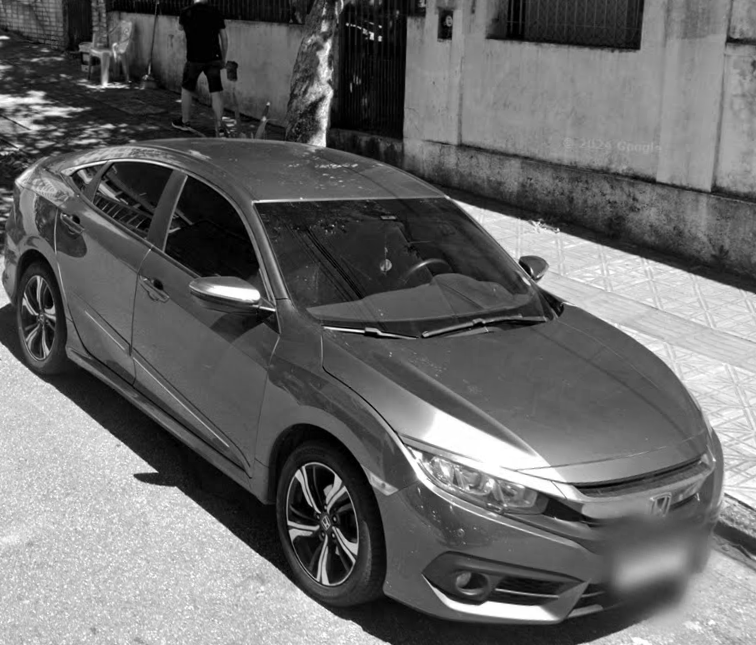car: (1, 139, 726, 623)
